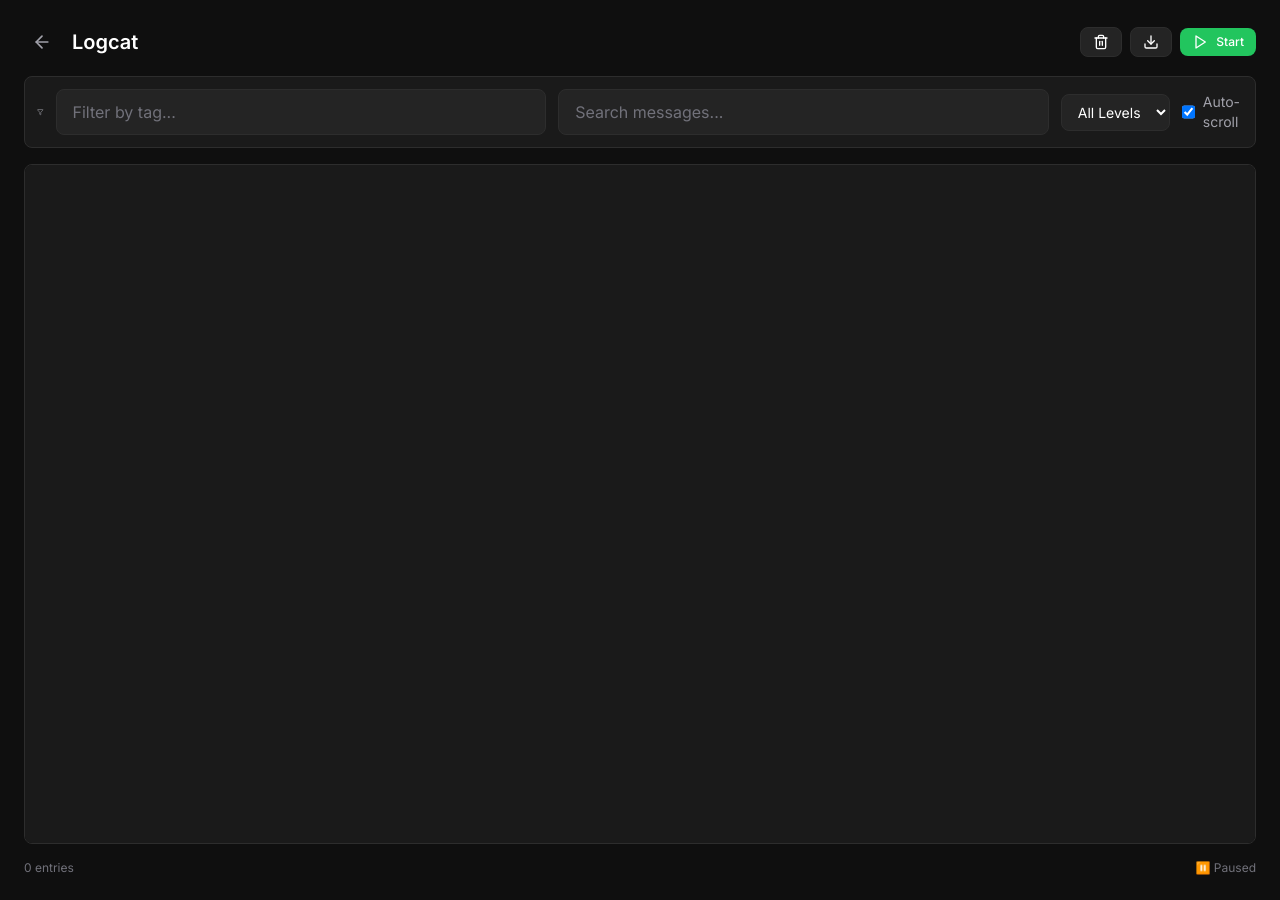
Test: LogcatPage › shows waiting for logs when running with no logs
What coordinates should you click on to do the following:
click the button "Start"
I would click on:
 (1218, 42)
Its box is [1180,28,1256,56].
(page scrolled)
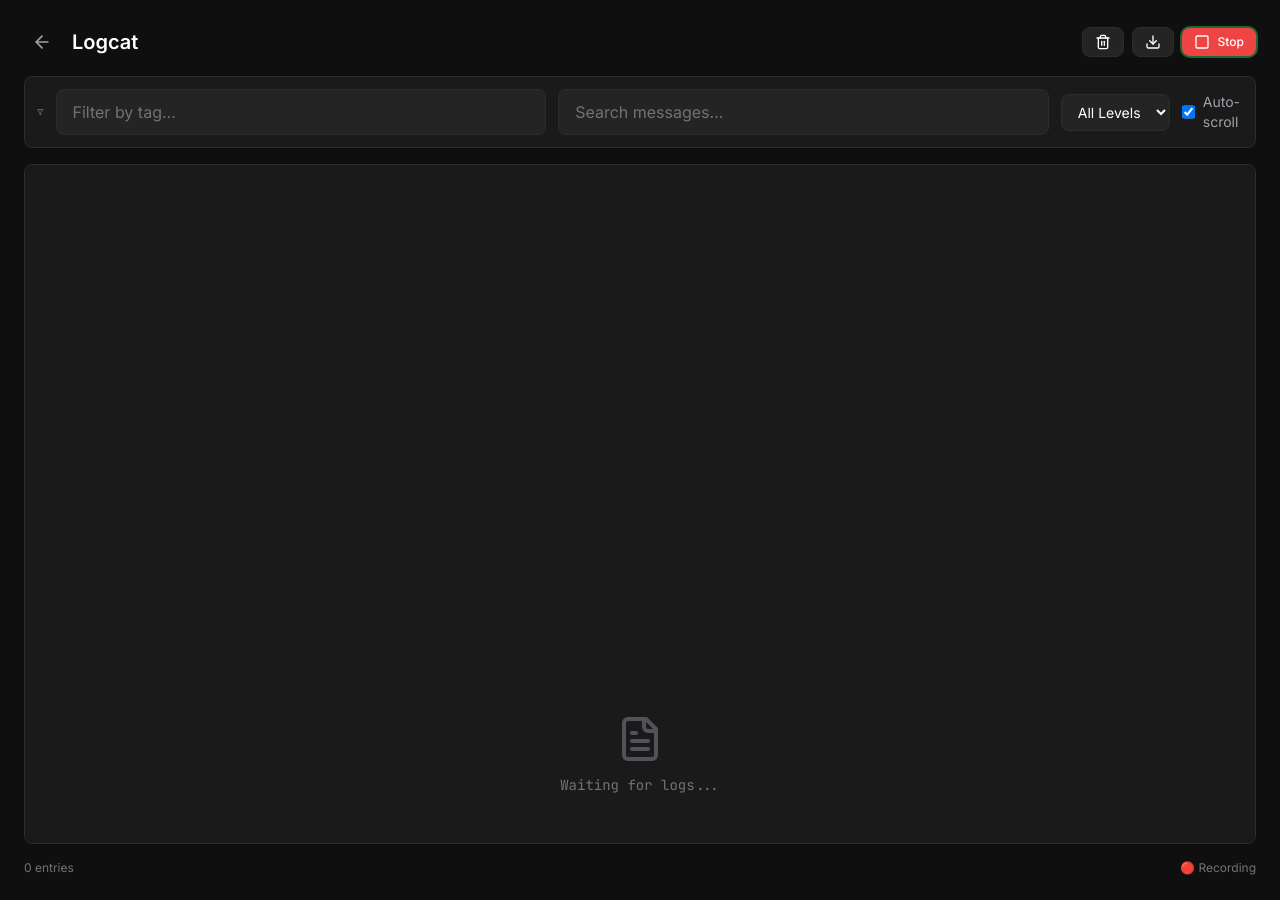
Now the text "Waiting for logs..." is shown, box [560,776,720,794]
